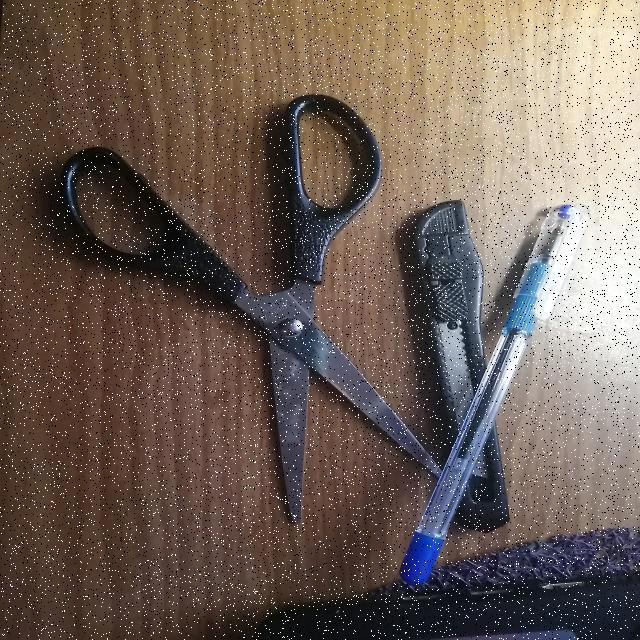scissors: (54, 67, 460, 549)
